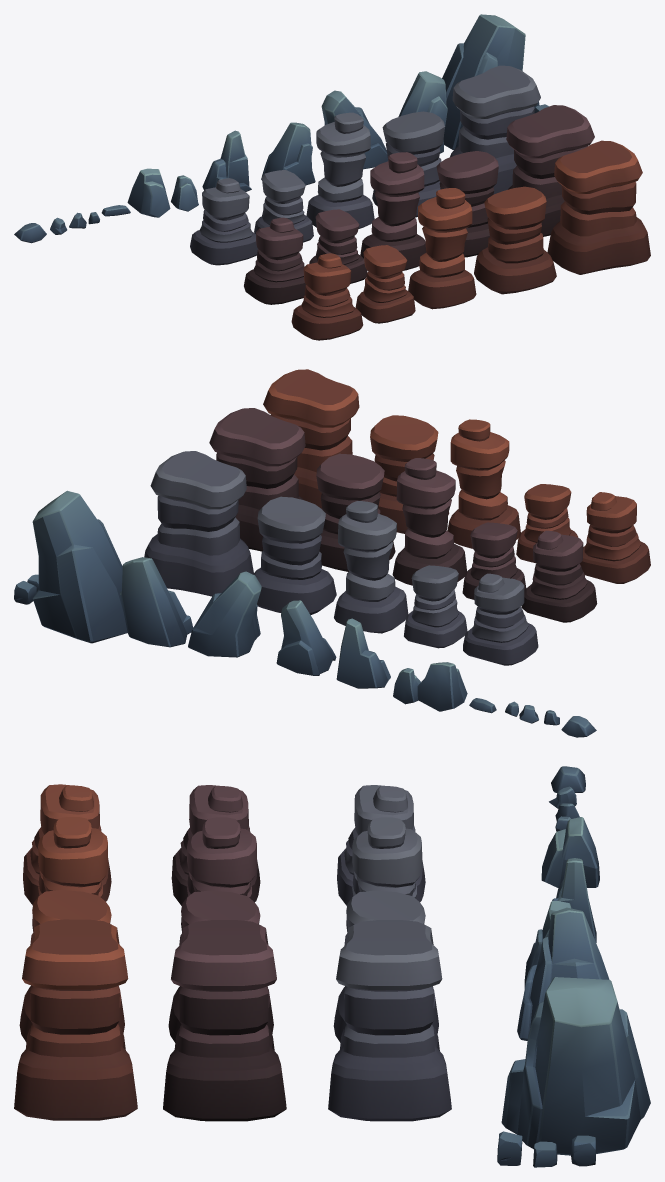
Rendered from RocksPack.glb.
3 views of the same model, one above another, from view 1: azimuth 30°, elevation 25°; view 2: azimuth 150°, elevation 25°; view 3: azimuth 270°, elevation 25° (orthographic). The views are drawn at different scales.
Visible parts, largest first — view 1: rock_big_B_5, rock_big_B_4, rock_big_B_gray_5, rock_big_B_3, rock_big_B_dark_5, rock_big_B_gray_3, rock_big_B_dark_3, rock_big_3, rock_big_B_1, rock_big_B_gray_1, Cube.010, rock_big_B_dark_4 (+10 smaller); view 2: rock_big_B_gray_5, rock_big_3, rock_big_B_dark_5, rock_big_B_gray_4, rock_big_B_gray_3, rock_big_B_5, rock_big_B_dark_3, rock_big_B_3, rock_big_B_gray_1, Cube.010, rock_big_B_1, rock_big_2 (+11 smaller); view 3: rock_big_B_dark_5, rock_big_B_gray_5, rock_big_B_5, rock_big_3, rock_big_1, rock_big_B_gray_3, rock_big_B_dark_3, rock_big_B_3, rock_big_B_gray_1, rock_big_B_1, Cube.010, rock_big_B_4 (+9 smaller).
Part boxes in pixels (x1,y1,x2,y2): rock_big_B_5: (547, 140, 650, 274); rock_big_B_4: (474, 186, 556, 294); rock_big_B_gray_5: (450, 65, 540, 194); rock_big_B_3: (408, 188, 476, 309); rock_big_B_dark_5: (506, 105, 594, 236); rock_big_B_gray_3: (306, 112, 374, 228); rock_big_B_dark_3: (360, 152, 426, 270); rock_big_3: (442, 14, 525, 149); rock_big_B_1: (291, 253, 363, 340); rock_big_B_gray_1: (190, 178, 257, 265); Cube.010: (244, 217, 305, 304); rock_big_B_dark_4: (436, 151, 498, 257); rock_big_B_gray_5: (144, 451, 253, 596); rock_big_3: (32, 490, 127, 643); rock_big_B_dark_5: (209, 408, 305, 551); rock_big_B_gray_4: (253, 496, 336, 614); rock_big_B_gray_3: (334, 501, 408, 633); rock_big_B_5: (263, 369, 359, 508); rock_big_B_dark_3: (392, 458, 466, 585); rock_big_B_3: (447, 419, 520, 548); rock_big_B_gray_1: (463, 573, 538, 665); Cube.010: (521, 530, 597, 622); rock_big_B_1: (580, 492, 650, 583); rock_big_2: (120, 557, 193, 647); rock_big_B_dark_5: (163, 920, 286, 1121); rock_big_B_gray_5: (328, 920, 451, 1121); rock_big_B_5: (14, 919, 137, 1120); rock_big_3: (501, 977, 650, 1155); rock_big_1: (517, 907, 609, 1040); rock_big_B_gray_3: (344, 817, 422, 945); rock_big_B_dark_3: (179, 817, 256, 945); rock_big_B_3: (30, 817, 108, 944); rock_big_B_gray_1: (337, 785, 425, 905); rock_big_B_1: (23, 784, 111, 905); Cube.010: (171, 785, 260, 905); rock_big_B_4: (19, 890, 124, 1041).
Size of the model in its own units: 41.04 by 8.5 by 28.11.
2 materials, 2 textured.
